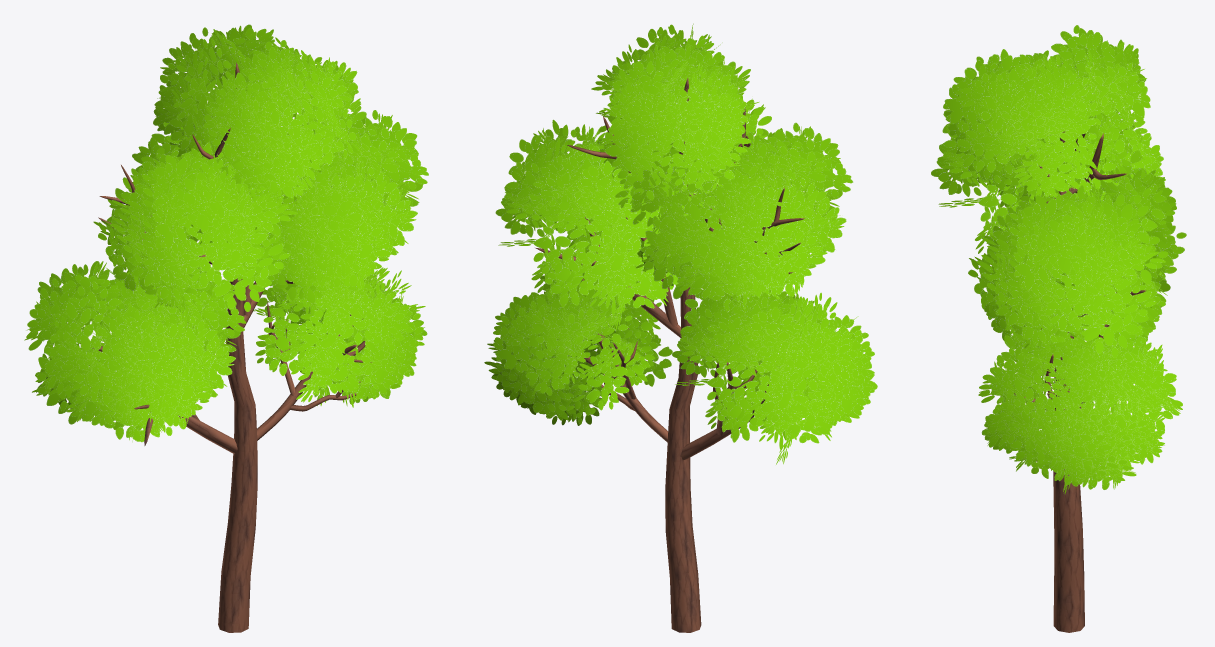
File: tree_young_2.glb
3 views of the same model, side by side, from view 1: azimuth 30°, elevation 25°; view 2: azimuth 150°, elevation 25°; view 3: azimuth 270°, elevation 25° (orthographic). The views are drawn at different scales.
Visible parts, largest first — view 1: NormalTree_2; view 2: NormalTree_2; view 3: NormalTree_2.
Boxes of the visible parts, bbox=[...] form: NormalTree_2: bbox=[24, 24, 428, 632]; NormalTree_2: bbox=[484, 23, 877, 632]; NormalTree_2: bbox=[931, 25, 1186, 632].
Bounding box in the file's own units: 4.55 × 6.56 × 2.79.
Materials: 2 (2 with a texture image).
